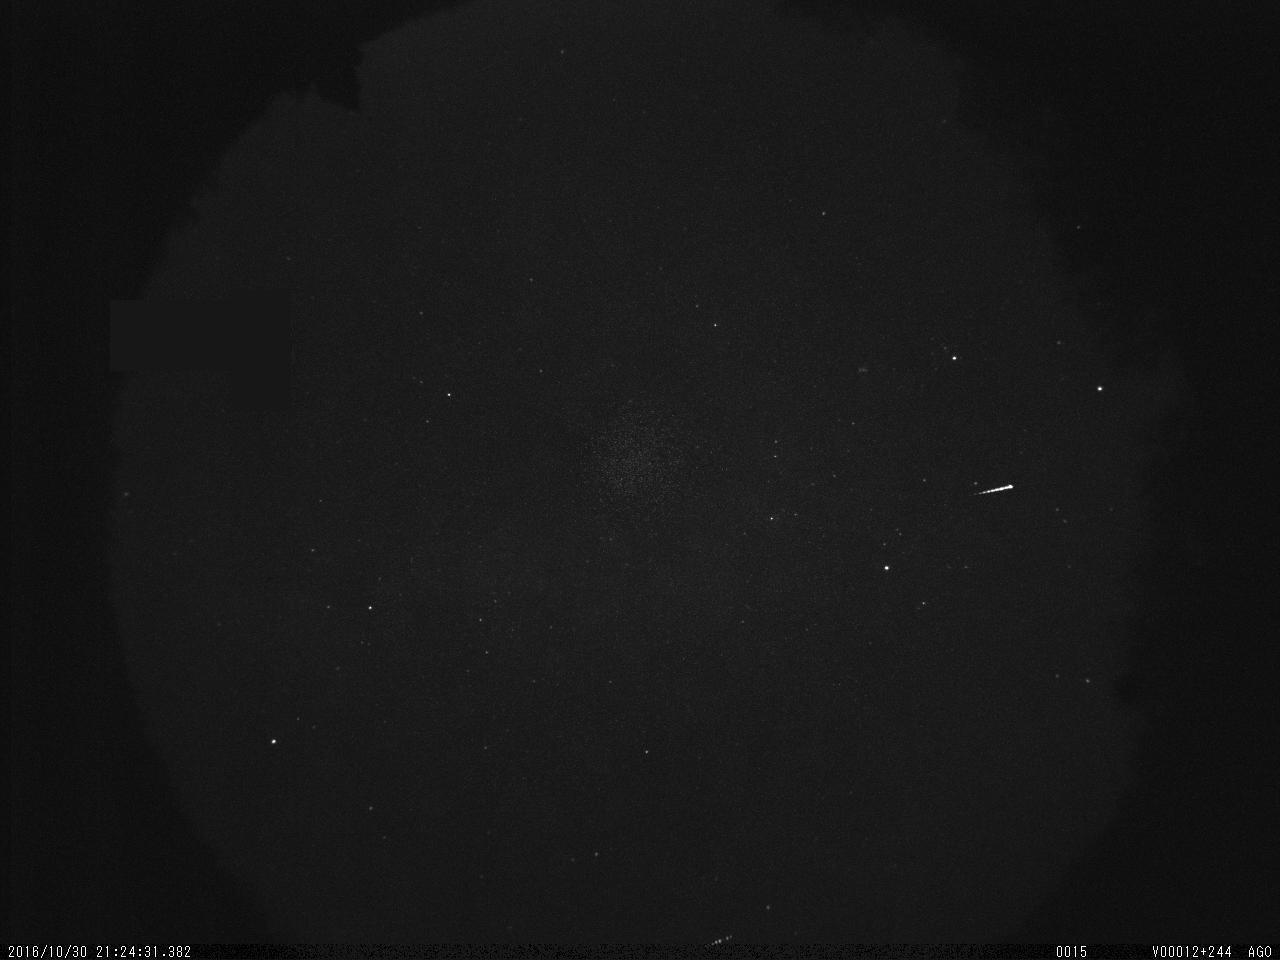meteor: (969, 478, 1018, 508)
